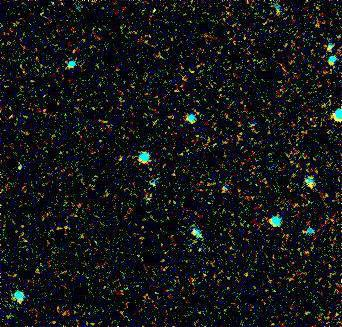star: (180, 217, 210, 247)
